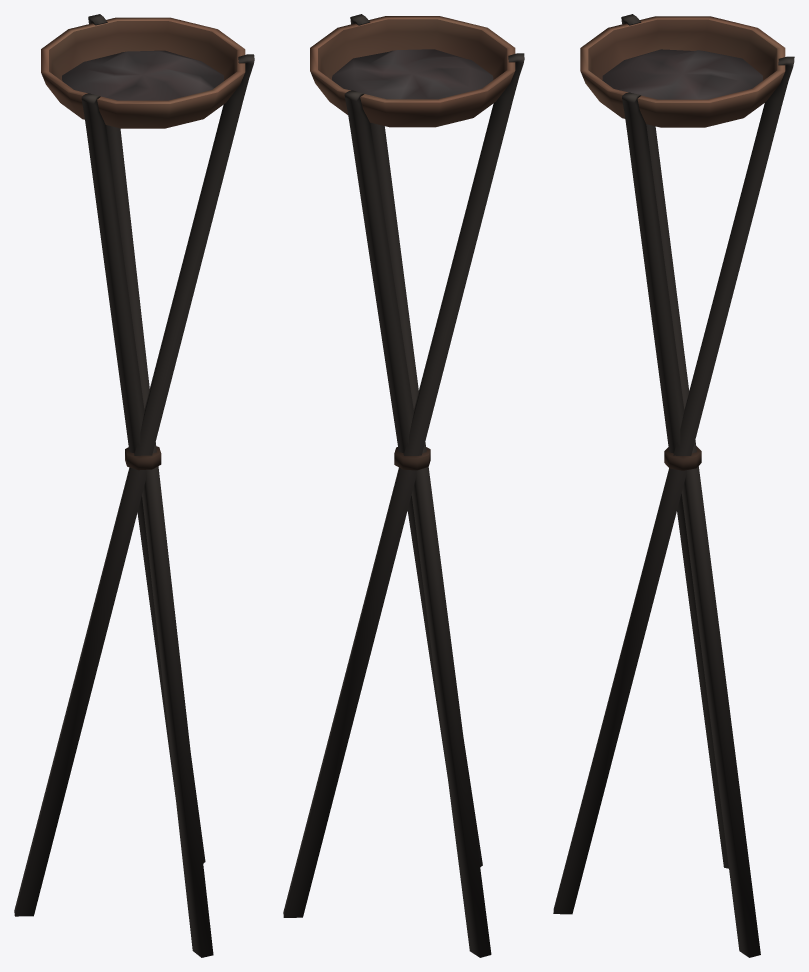
The picture shows the model from 3 angles, left to right: view 1: azimuth 30°, elevation 25°; view 2: azimuth 150°, elevation 25°; view 3: azimuth 270°, elevation 25°; orthographic projection.
Visible parts, largest first — view 1: base.047; view 2: base.047; view 3: base.047.
Boxes of the visible parts, left/top/right/bottom form: base.047: left=14, top=14, right=254, bottom=957; base.047: left=283, top=14, right=524, bottom=957; base.047: left=553, top=14, right=794, bottom=957.
Size of the model in its own units: 0.1222 by 0.5 by 0.1279.
